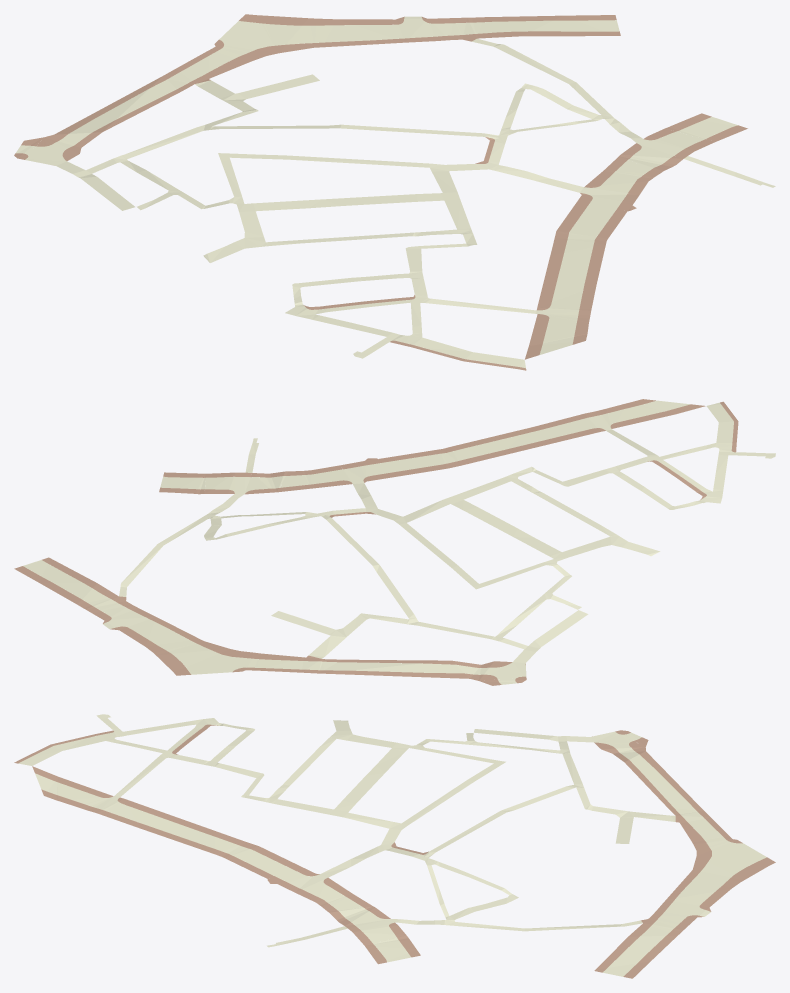
Rendered from data73.glb.
3 renders of one model, top to bottom at view 1: azimuth 30°, elevation 25°; view 2: azimuth 150°, elevation 25°; view 3: azimuth 270°, elevation 25°, orthographic. The views are drawn at different scales.
Size of the model in its own units: 265 by 17.14 by 355.
